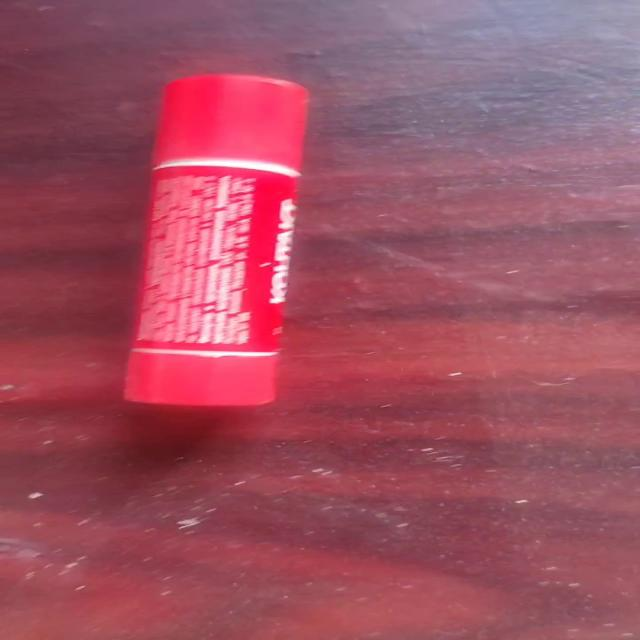glue: (122, 73, 308, 407)
